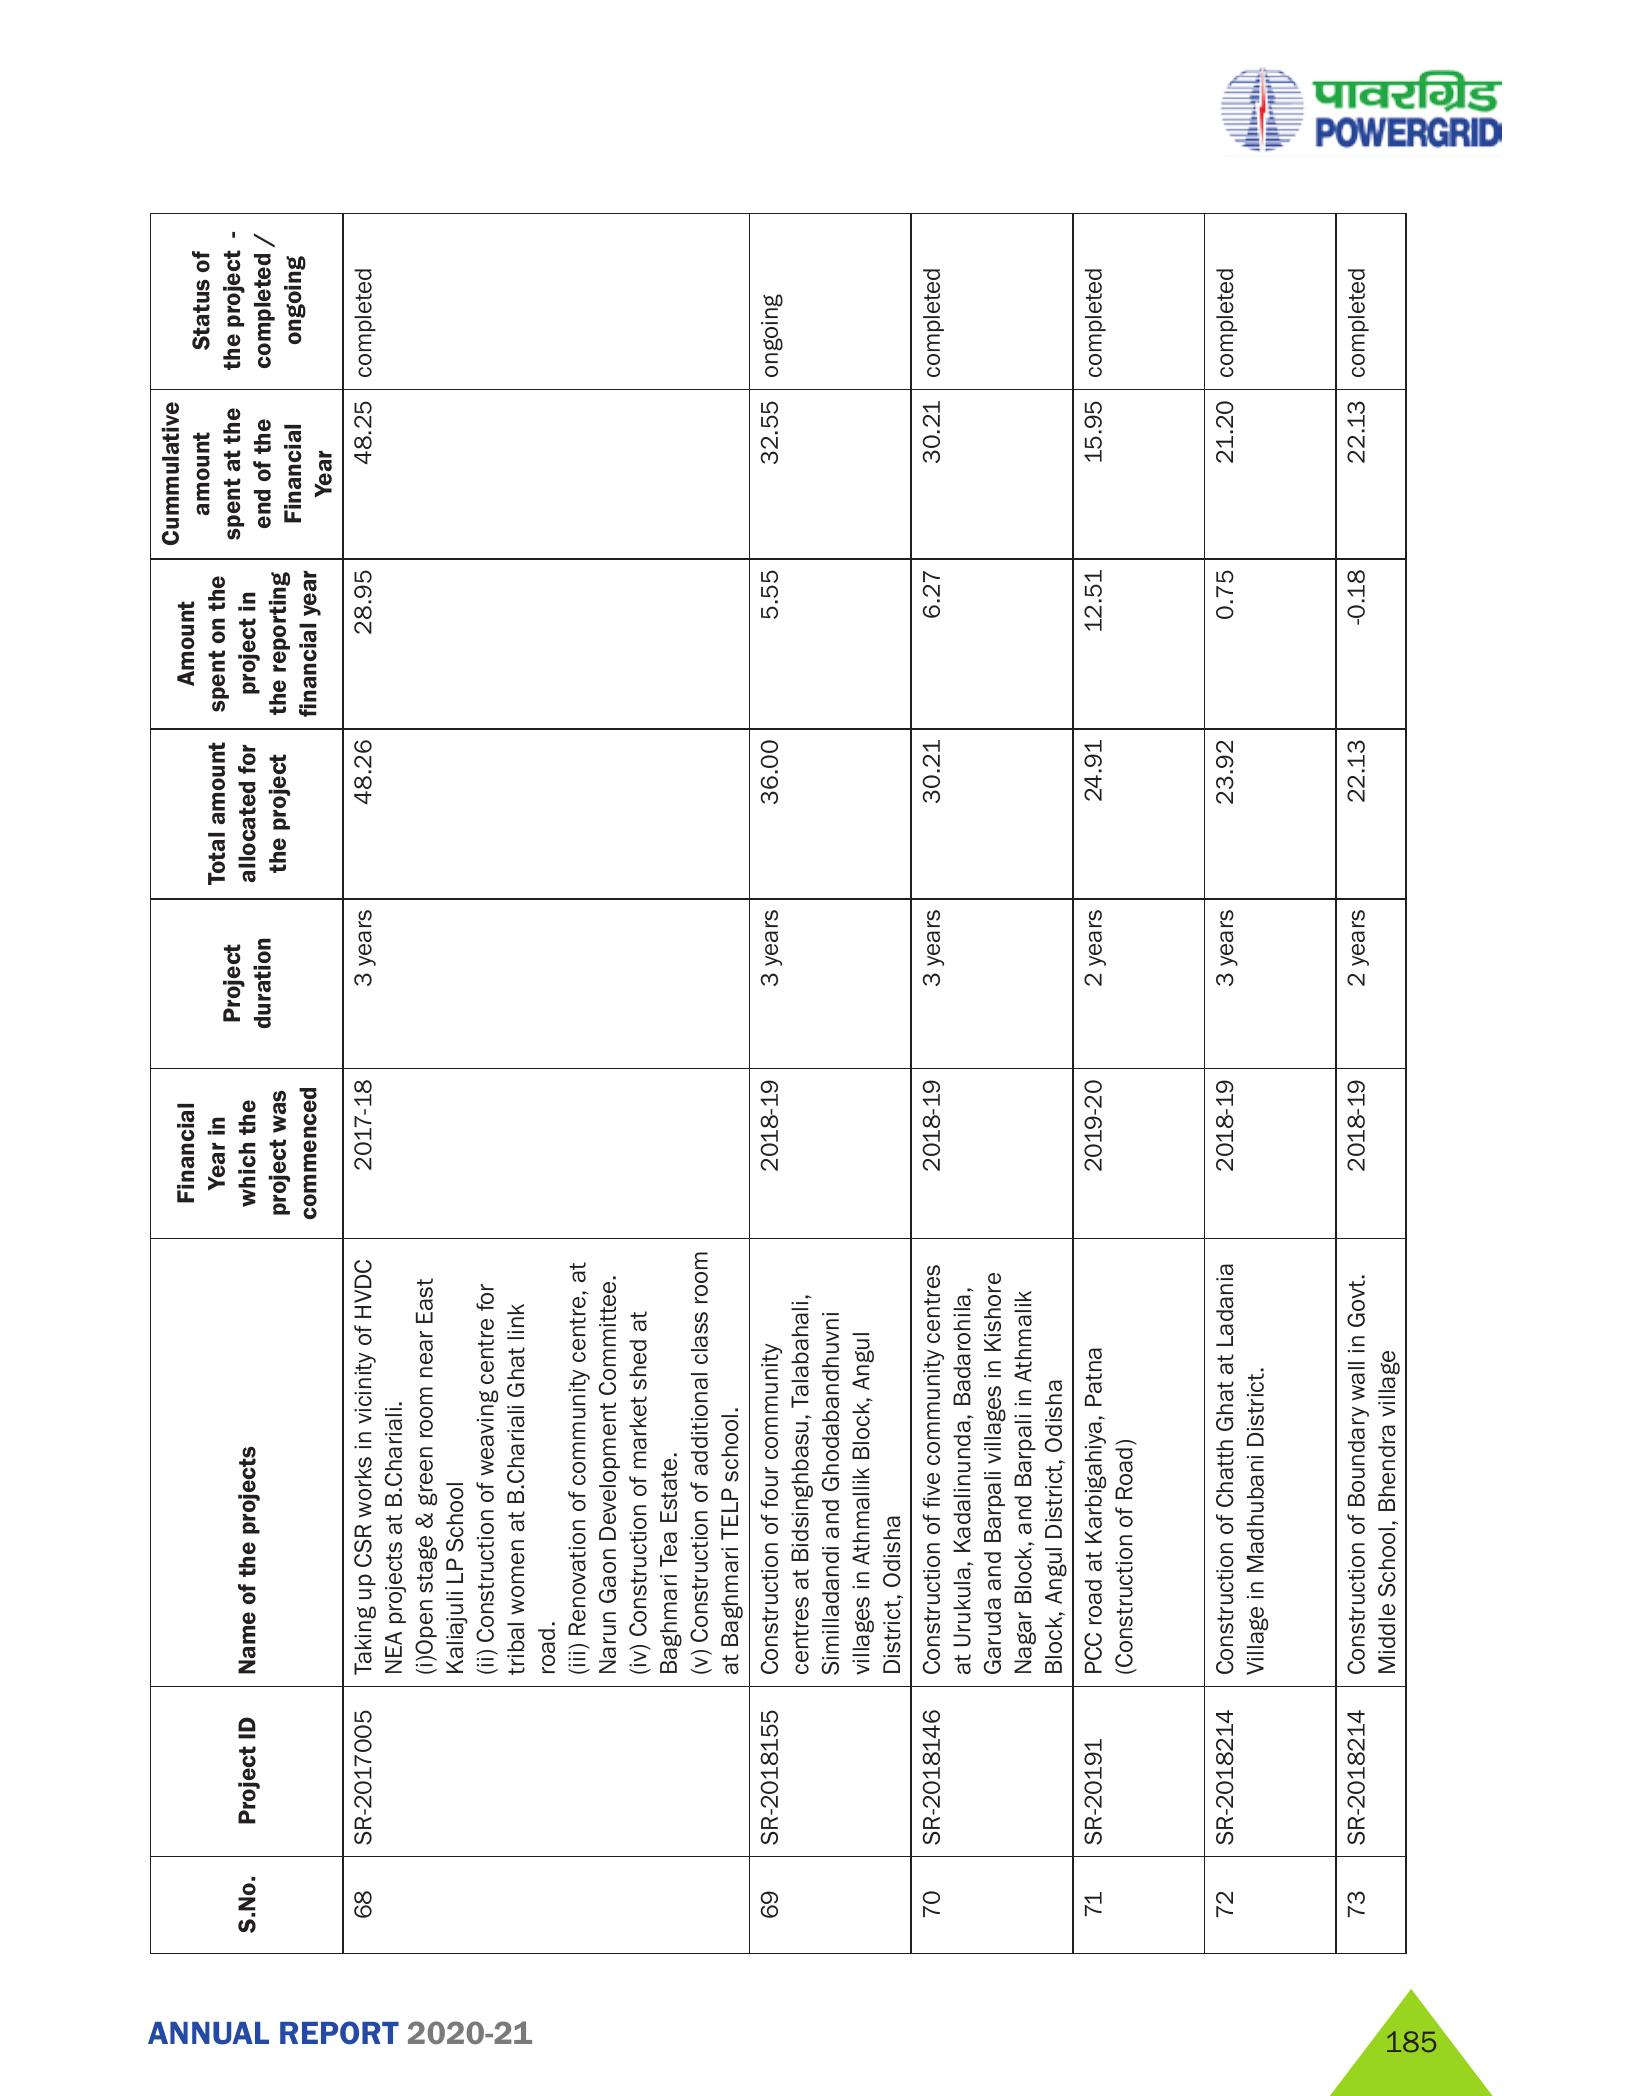Footer: (0, 1965, 1650, 2096)
Header: (0, 0, 1650, 175)
Table: (134, 204, 1461, 1962)
